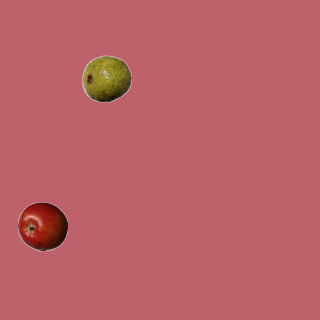Apple Braeburn: (17, 201, 67, 251)
Guava: (81, 53, 131, 103)
